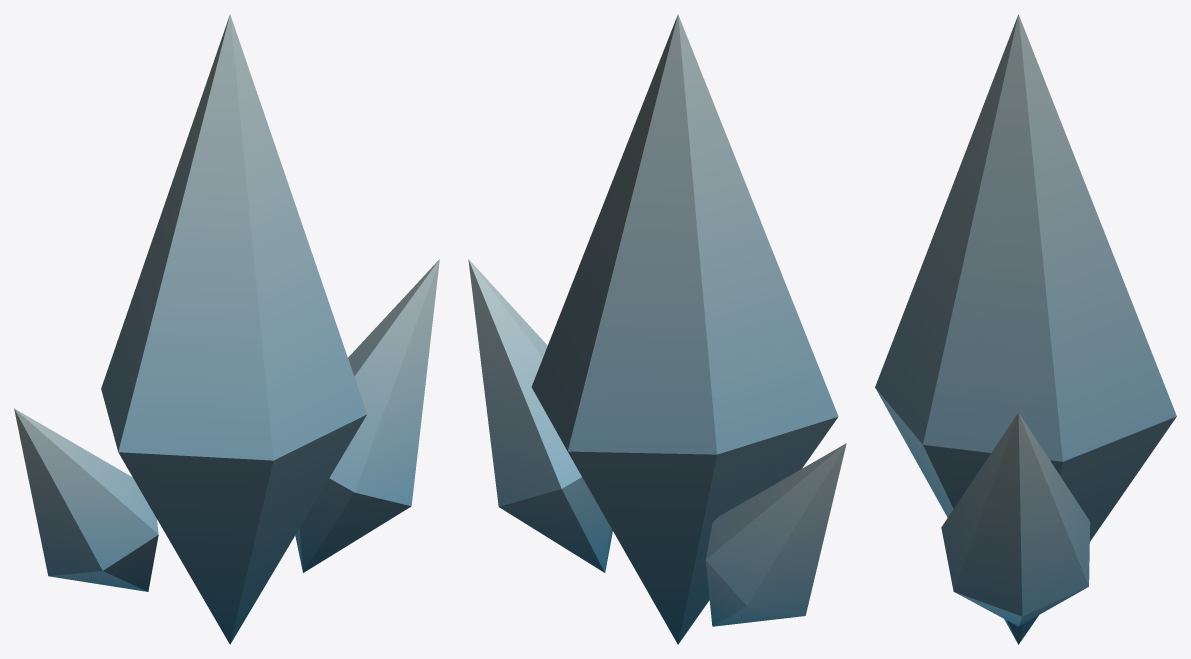
The model's file is PR_SoulCrystal.fbx.
The picture shows the model from 3 angles, left to right: view 1: azimuth 30°, elevation 25°; view 2: azimuth 150°, elevation 25°; view 3: azimuth 270°, elevation 25°; orthographic projection.
Parts seen in each view (by area): view 1: PR_SoulCrystal; view 2: PR_SoulCrystal; view 3: PR_SoulCrystal.
Part boxes in pixels (x1,y1,x2,y2): PR_SoulCrystal: (14, 14, 439, 644); PR_SoulCrystal: (468, 14, 846, 644); PR_SoulCrystal: (875, 14, 1176, 644).
Bounding box in the file's own units: 0.2935 × 0.44 × 0.1908.
